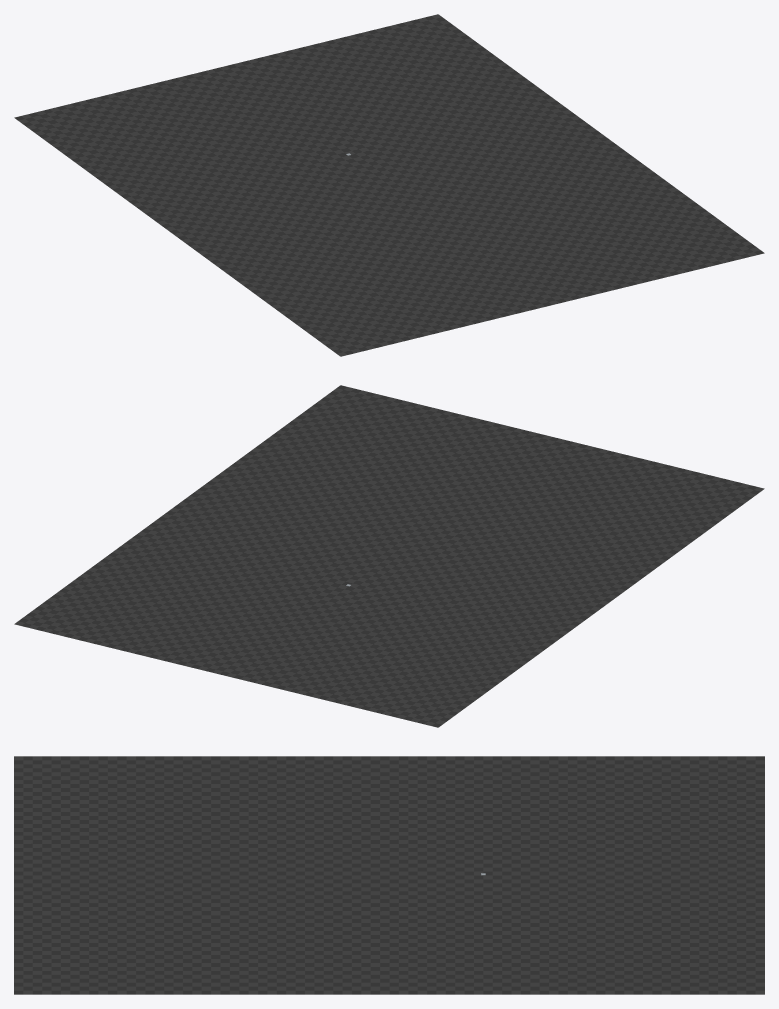
Rendered from Floor_03.glb.
The picture shows the model from 3 angles, top to bottom: view 1: azimuth 30°, elevation 25°; view 2: azimuth 150°, elevation 25°; view 3: azimuth 270°, elevation 25°; orthographic projection. The views are drawn at different scales.
Visible parts, largest first — view 1: Ground_001.004, Ground_001.005, Ground_001.007, Ground_001.010, Ground_001.002, Ground_001.006, Ground_001.011, Ground_001.001, Ground_001.003, Ground_001.008, Ground_001.009, Ground_001; view 2: Ground_001.001, Ground_001.002, Ground_001.008, Ground_001.011, Ground_001.005, Ground_001.006, Ground_001.010, Ground_001.003, Ground_001.004, Ground_001.007, Ground_001.009, Ground_001; view 3: Ground_001.006, Ground_001, Ground_001.003, Ground_001.009, Ground_001.001, Ground_001.004, Ground_001.007, Ground_001.008, Ground_001.002, Ground_001.005, Ground_001.010, Ground_001.011.
Boxes of the visible parts, box(x1,y1,x2,y2) form: Ground_001.004: box(379, 74, 601, 168); Ground_001.005: box(297, 14, 519, 108); Ground_001.007: box(177, 202, 399, 296); Ground_001.010: box(259, 262, 481, 356); Ground_001.002: box(14, 83, 236, 177); Ground_001.006: box(319, 168, 541, 262); Ground_001.011: box(542, 193, 764, 287); Ground_001.001: box(96, 143, 318, 236); Ground_001.003: box(156, 48, 377, 142); Ground_001.008: box(460, 134, 682, 227); Ground_001.009: box(401, 228, 622, 322); Ground_001: box(237, 108, 459, 202); Ground_001.001: box(379, 573, 601, 667); Ground_001.002: box(297, 633, 519, 727); Ground_001.008: box(177, 445, 399, 539); Ground_001.011: box(259, 385, 481, 479); Ground_001.005: box(14, 564, 236, 658); Ground_001.006: box(319, 479, 541, 573); Ground_001.010: box(542, 454, 764, 548); Ground_001.003: box(156, 599, 377, 693); Ground_001.004: box(96, 505, 318, 598); Ground_001.007: box(460, 514, 682, 607); Ground_001.009: box(401, 419, 622, 513); Ground_001: box(237, 539, 459, 633); Ground_001.006: box(201, 835, 389, 915); Ground_001: box(389, 835, 577, 915); Ground_001.003: box(577, 835, 764, 915); Ground_001.009: box(14, 835, 201, 915); Ground_001.001: box(389, 756, 577, 835); Ground_001.004: box(389, 915, 577, 994); Ground_001.007: box(201, 756, 389, 835); Ground_001.008: box(201, 915, 389, 994); Ground_001.002: box(577, 756, 764, 835); Ground_001.005: box(577, 915, 764, 994); Ground_001.010: box(14, 756, 201, 835); Ground_001.011: box(14, 915, 201, 994).
Bounding box in the file's own units: 120 × 0.3125 × 160.
2 materials, 2 textured.
